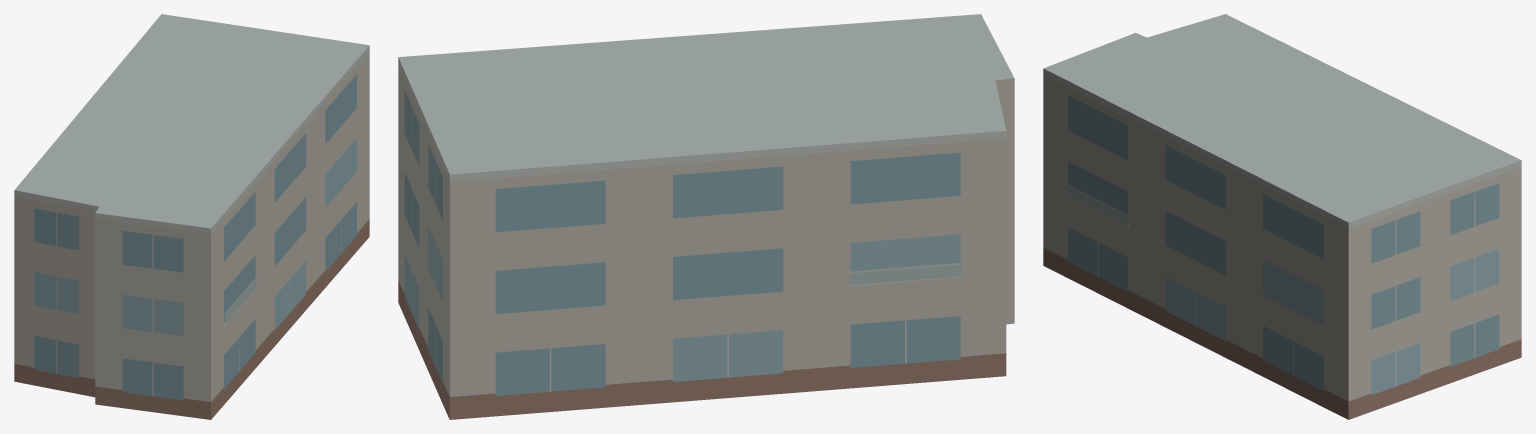
File: survey-upis-32629844.glb
3 views of the same model, side by side, from view 1: azimuth 30°, elevation 25°; view 2: azimuth 150°, elevation 25°; view 3: azimuth 270°, elevation 25° (orthographic). The views are drawn at different scales.
Visible parts, largest first — view 1: survey-upis-32629844.tmp; view 2: survey-upis-32629844.tmp; view 3: survey-upis-32629844.tmp.
Part boxes in pixels (<box>): survey-upis-32629844.tmp: <box>14,14,369,419</box>; survey-upis-32629844.tmp: <box>398,14,1014,419</box>; survey-upis-32629844.tmp: <box>1043,14,1521,419</box>.
Size of the model in its own units: 17.7 by 7.8 by 17.15.
